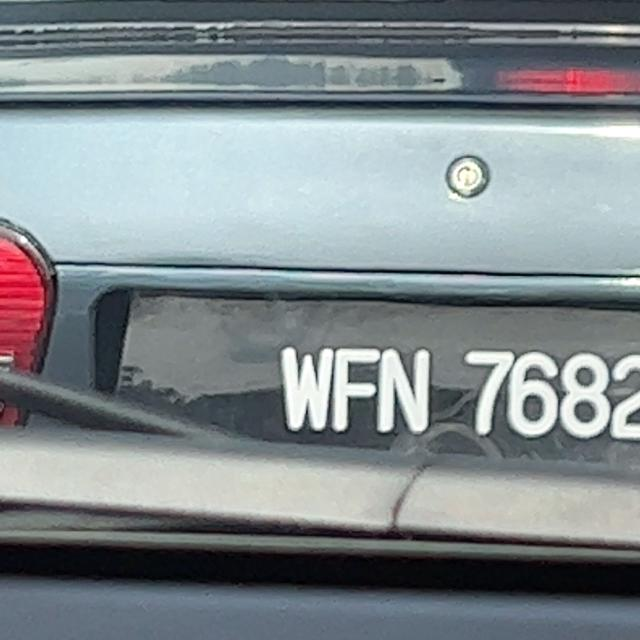License_Plate: (189, 300, 640, 464)
